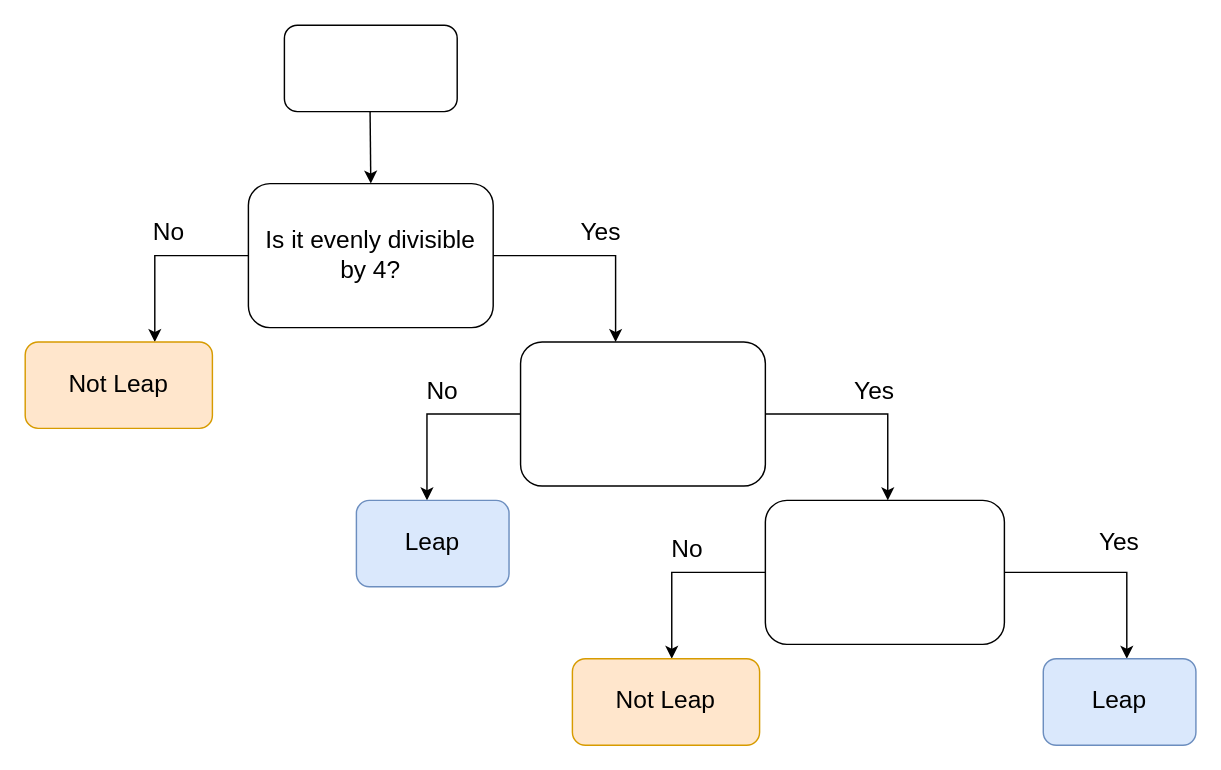
This 1221x770 diagram has some shape labels left out. The shapes that lost their labels are listed below. From the top down, each one's centre as x and y in pixels, then its label:
At [370,68]: "START".
At [642,413]: "Is it evenly divisible by 100?".
At [884,571]: "Is it evenly divisible by 400?".
